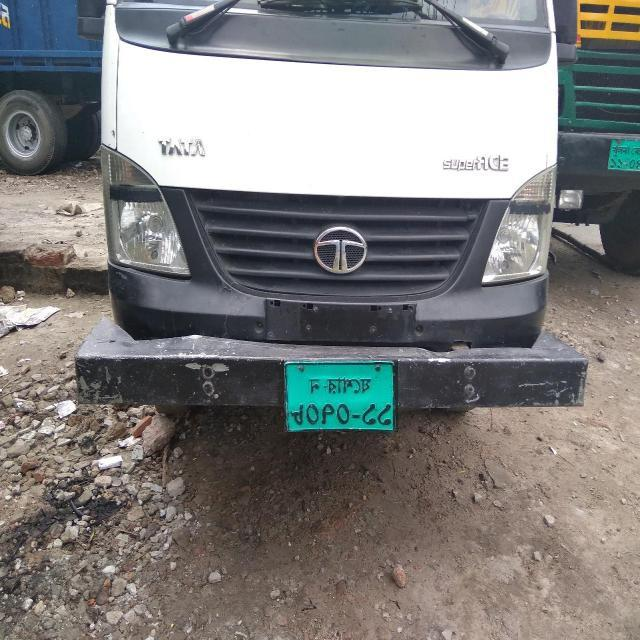numberplate: (284, 359, 398, 432)
